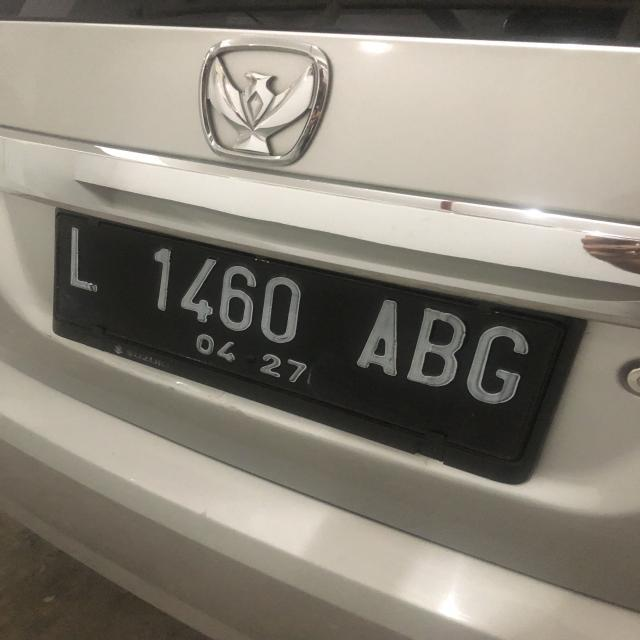0: (260, 275, 302, 343)
1: (144, 245, 177, 312)
4: (180, 256, 218, 324)
6: (216, 262, 256, 336)
A: (357, 288, 404, 378)
B: (404, 308, 466, 386)
G: (466, 323, 534, 407)
L: (67, 225, 102, 292)
